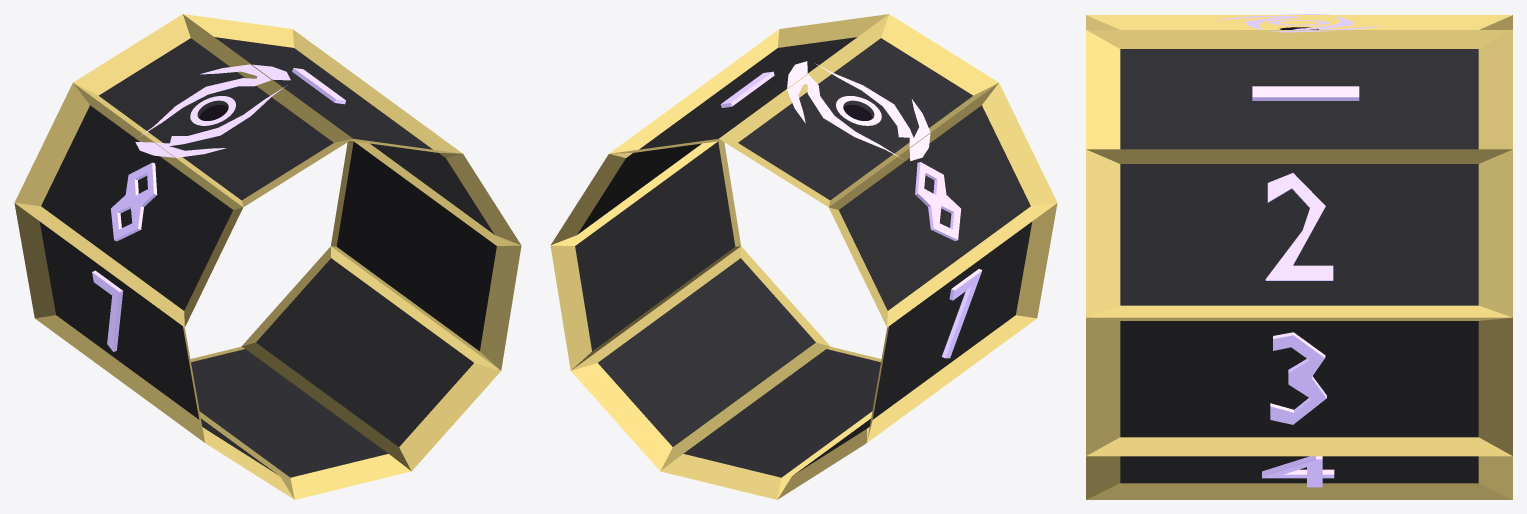
The model's file is d9_black_hole_gold.glb.
3 renders of one model, left to right at view 1: azimuth 30°, elevation 25°; view 2: azimuth 150°, elevation 25°; view 3: azimuth 270°, elevation 25°, orthographic. The views are drawn at different scales.
Parts seen in each view (by area): view 1: D9_Die; view 2: D9_Die; view 3: D9_Die.
Boxes of the visible parts, x1,y1,x2,y2 form: D9_Die: [14, 14, 521, 499]; D9_Die: [550, 14, 1057, 499]; D9_Die: [1086, 14, 1512, 499].
Bounding box in the file's own units: 4.33 × 4.33 × 3.8.
